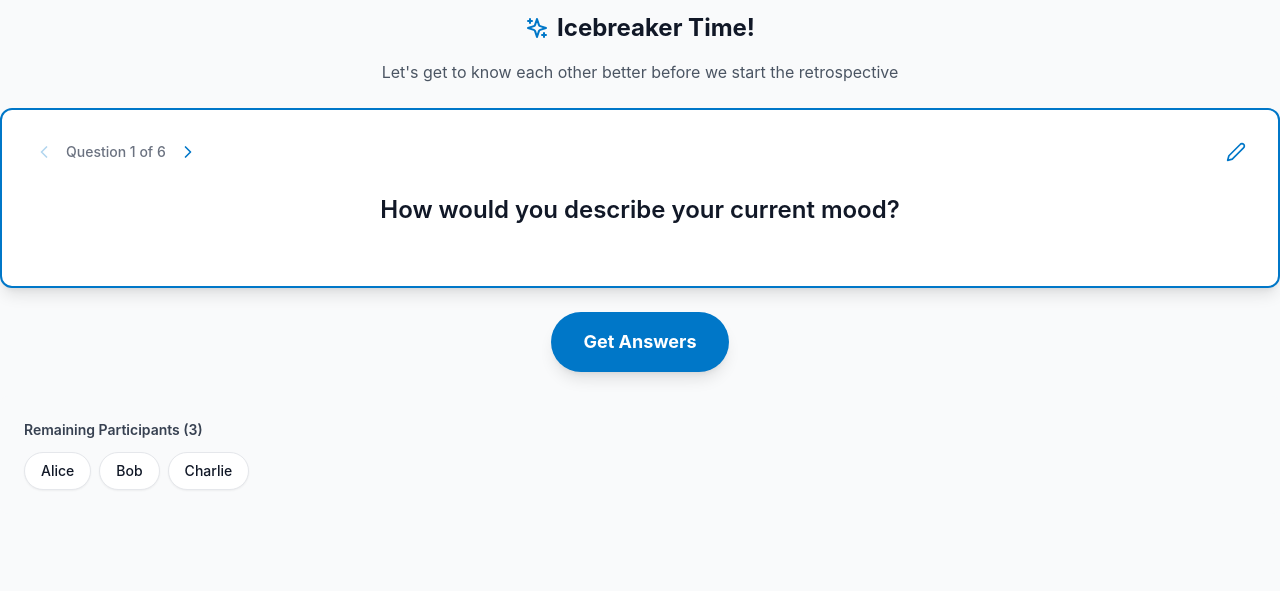
IcebreakerStage › Question Editing › shows edit form when edit button clicked
This screenshot has width=1280, height=591.
Click the button named "Edit question" at (1236, 152), box x1=1226 y1=142 x2=1246 y2=162
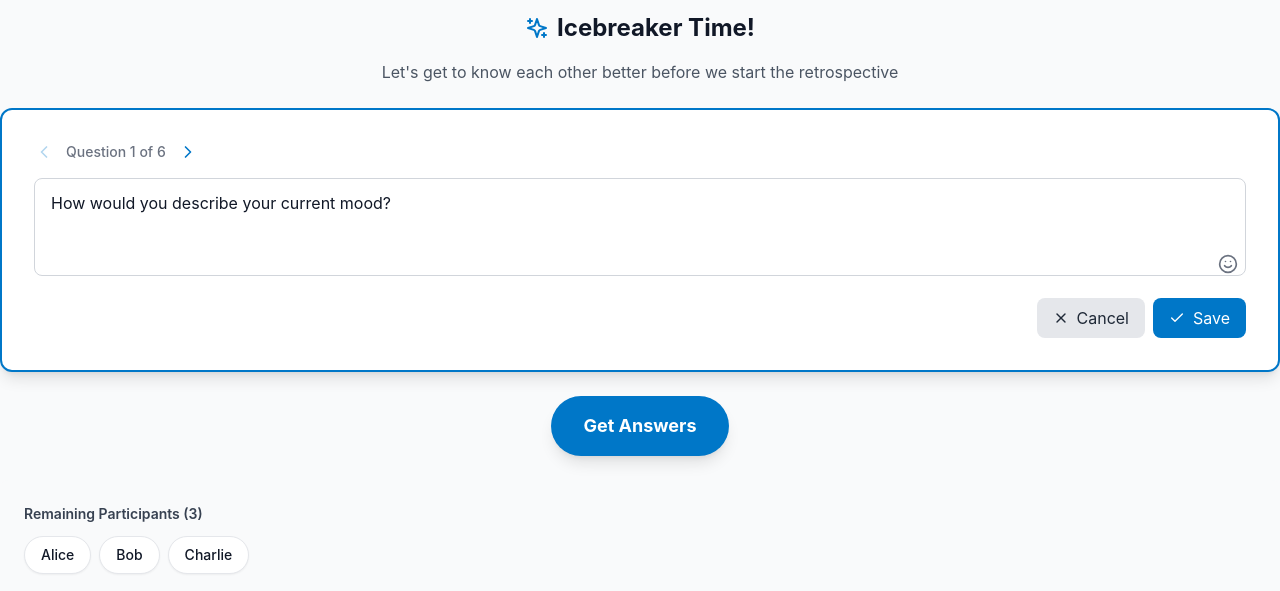
Now the text box with placeholder "Enter your custom question..." is shown, box x1=34 y1=178 x2=1246 y2=276
Now the button "Save" is shown, box x1=1153 y1=298 x2=1246 y2=338
Now the button "Cancel" is shown, box x1=1036 y1=298 x2=1145 y2=338
